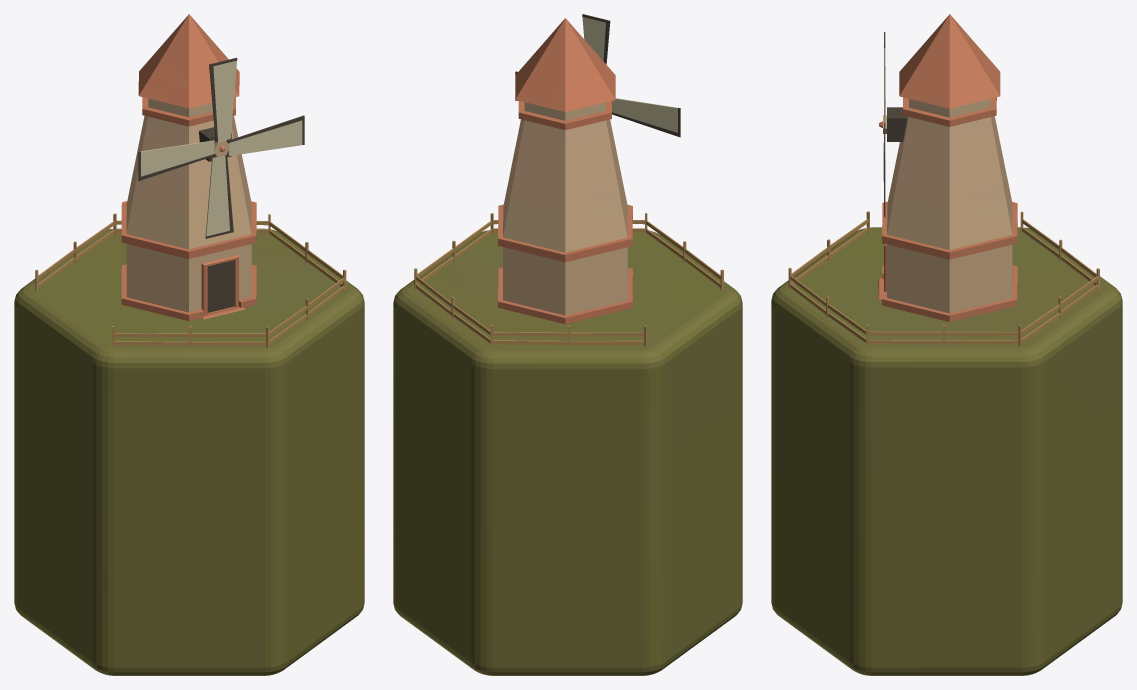
Rendered from Hex-contact.glb.
3 views of the same model, side by side, from view 1: azimuth 30°, elevation 25°; view 2: azimuth 150°, elevation 25°; view 3: azimuth 270°, elevation 25° (orthographic).
Visible parts, largest first — view 1: Cylinder, Cylinder.158_Material.001_0, Cube.081_Material.001_0; view 2: Cylinder, Cylinder.158_Material.001_0, Cube.081_Material.001_0; view 3: Cylinder, Cylinder.158_Material.001_0, Cube.081_Material.001_0.
Boxes of the visible parts, box(x1,y1,x2,y2) form: Cylinder: box(14, 228, 364, 675); Cylinder.158_Material.001_0: box(121, 14, 304, 321); Cube.081_Material.001_0: box(35, 213, 346, 347); Cylinder: box(393, 230, 742, 675); Cylinder.158_Material.001_0: box(498, 14, 680, 324); Cube.081_Material.001_0: box(414, 213, 723, 346); Cylinder: box(771, 227, 1122, 675); Cylinder.158_Material.001_0: box(878, 14, 1017, 321); Cube.081_Material.001_0: box(788, 211, 1099, 345).
Bounding box in the file's own units: 1.73 × 3.69 × 1.95.
2 materials, 2 textured.
